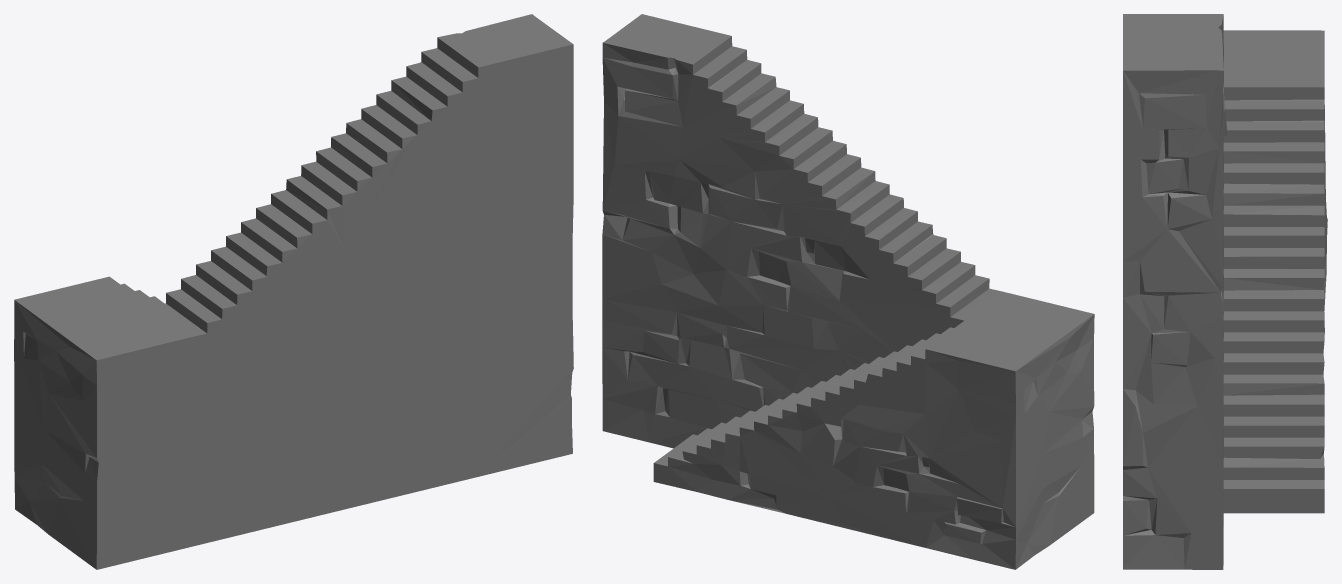
Rendered from castle_battlement_stairs_a.FBX.
3 renders of one model, left to right at view 1: azimuth 30°, elevation 25°; view 2: azimuth 150°, elevation 25°; view 3: azimuth 270°, elevation 25°, orthographic. The views are drawn at different scales.
Parts seen in each view (by area): view 1: castle_battlement_stairs_a; view 2: castle_battlement_stairs_a; view 3: castle_battlement_stairs_a.
Boxes of the visible parts, <box> form: castle_battlement_stairs_a: <box>14,14,573,569</box>; castle_battlement_stairs_a: <box>602,14,1094,569</box>; castle_battlement_stairs_a: <box>1123,14,1327,569</box>.
Bounding box in the file's own units: 10.02 × 8.2 × 3.05.
